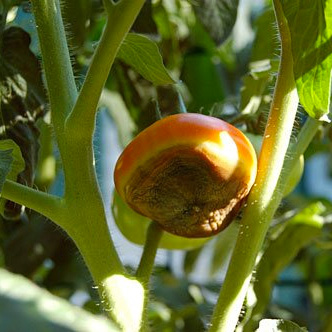blossom_rotw: (134, 141, 242, 240)
